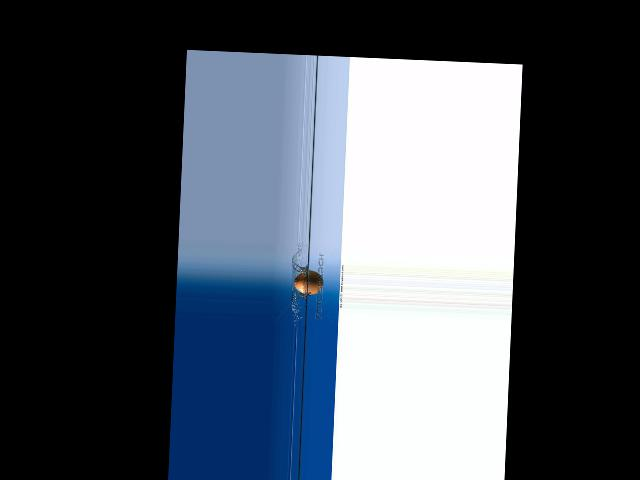egg: (293, 269, 323, 294)
